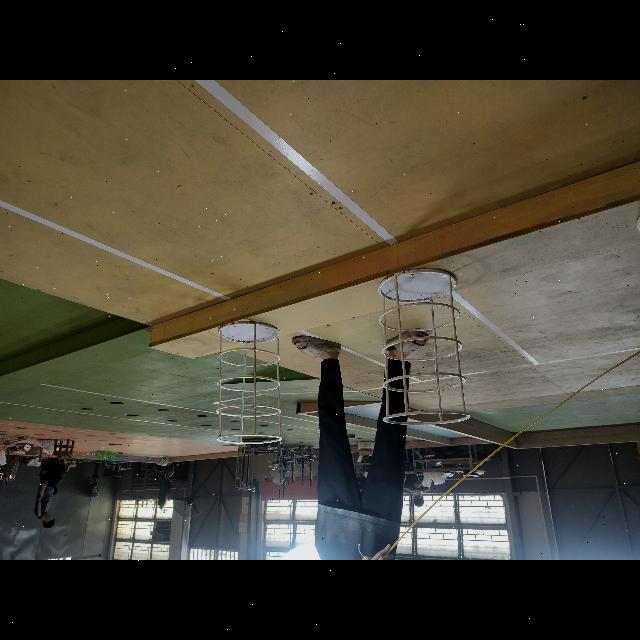S: (376, 268, 472, 428), (209, 320, 283, 448)
